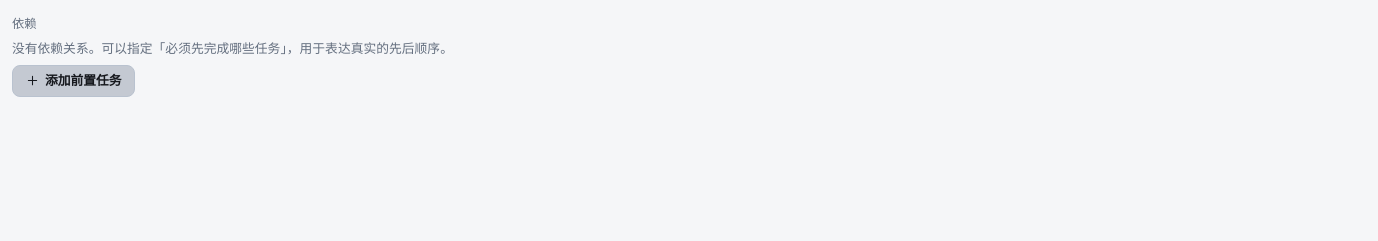
StrictMode 清理演练后前置候选搜索仍应用结果、退出读取中
Click the button "添加前置任务".
click(73, 81)  # box [12, 65, 134, 97]
Wait 250 ms
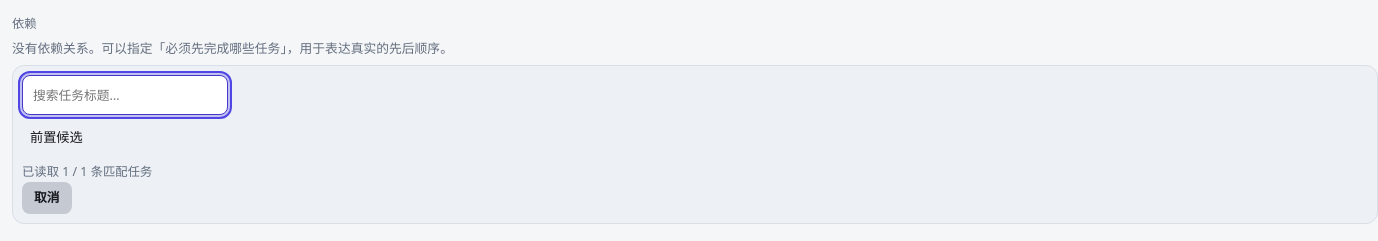
Now the button with class "depspicker__item" reads "前置候选", box [22, 122, 1368, 152]
